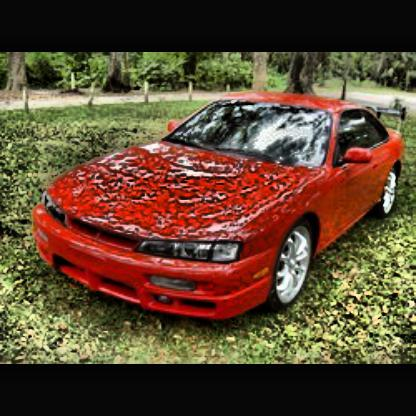Nissan 240SX Coupe 1998: (36, 99, 407, 321)
